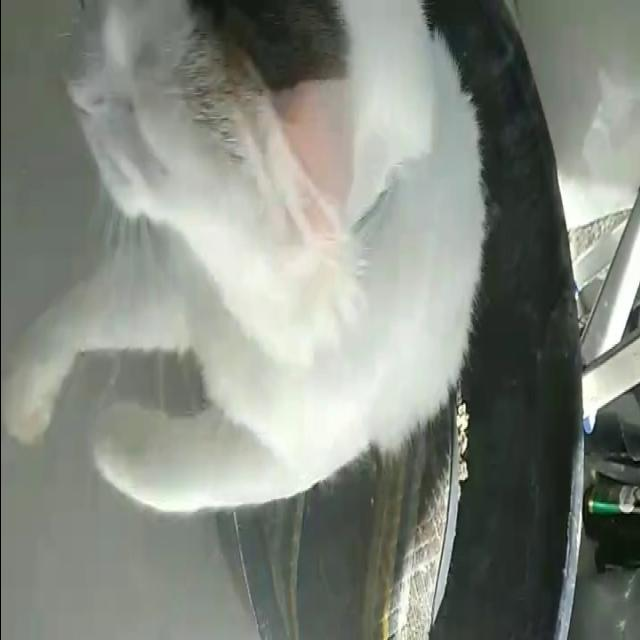Simba: (6, 0, 510, 605)
